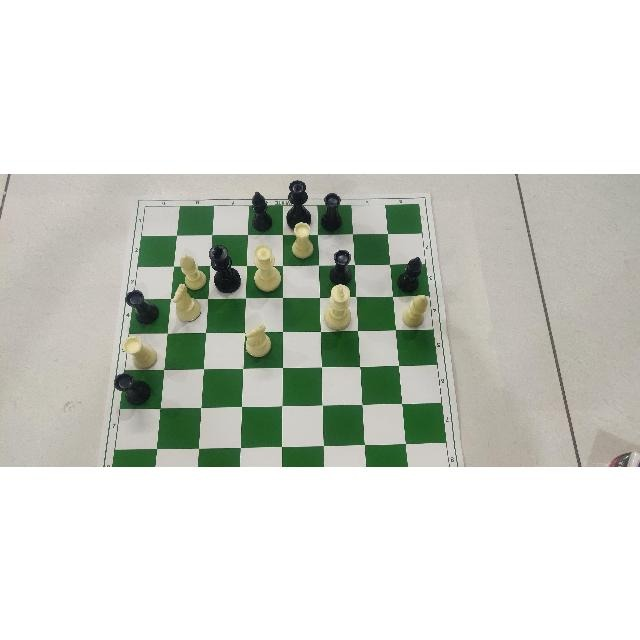black-bishop: (392, 266, 427, 290), (250, 206, 282, 231)
black-king: (212, 265, 243, 293)
black-queen: (287, 204, 315, 229)
black-rook: (121, 372, 157, 403), (131, 294, 170, 321), (322, 269, 354, 289), (321, 207, 350, 229)
white-bishop: (397, 297, 430, 323), (175, 267, 208, 290)
white-king: (322, 300, 356, 328)
white-knight: (246, 332, 280, 362), (170, 295, 201, 325)
white-queen: (249, 268, 282, 292)
white-rook: (128, 335, 160, 364), (283, 238, 316, 262)
